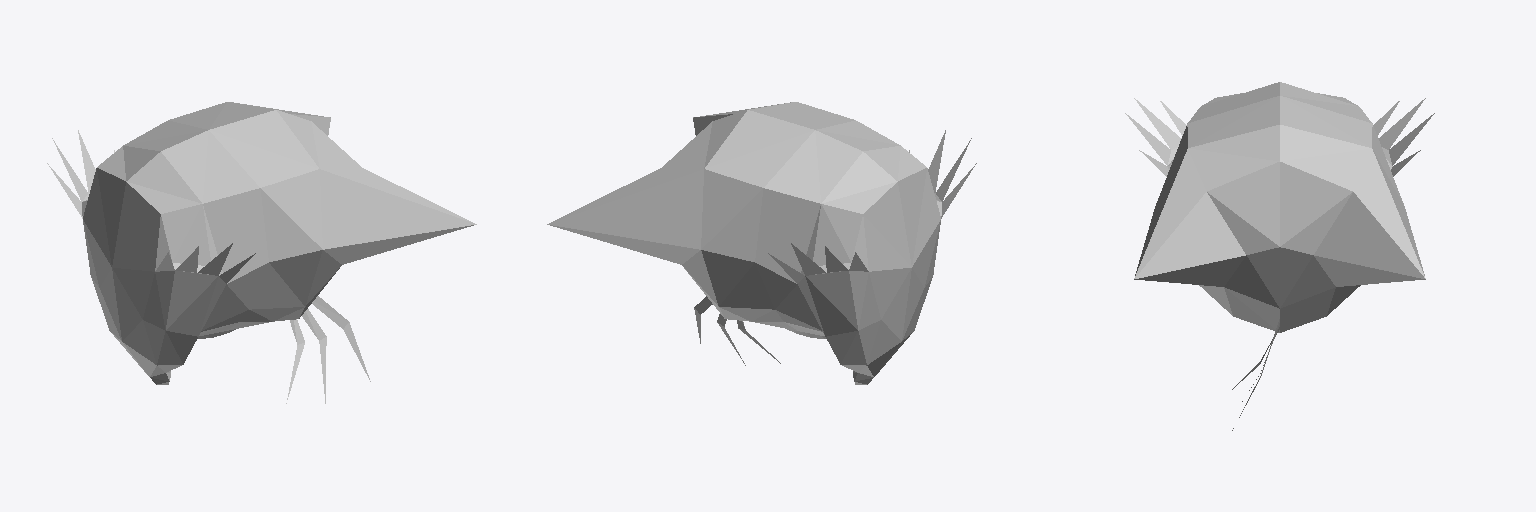
File: Head.obj
3 views of the same model, side by side, from view 1: azimuth 30°, elevation 25°; view 2: azimuth 150°, elevation 25°; view 3: azimuth 270°, elevation 25° (orthographic).
Bounding box in the file's own units: 16.83 × 15.33 × 15.32.